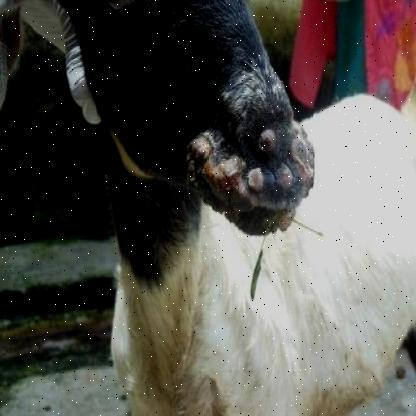ppr: (177, 111, 317, 234)
